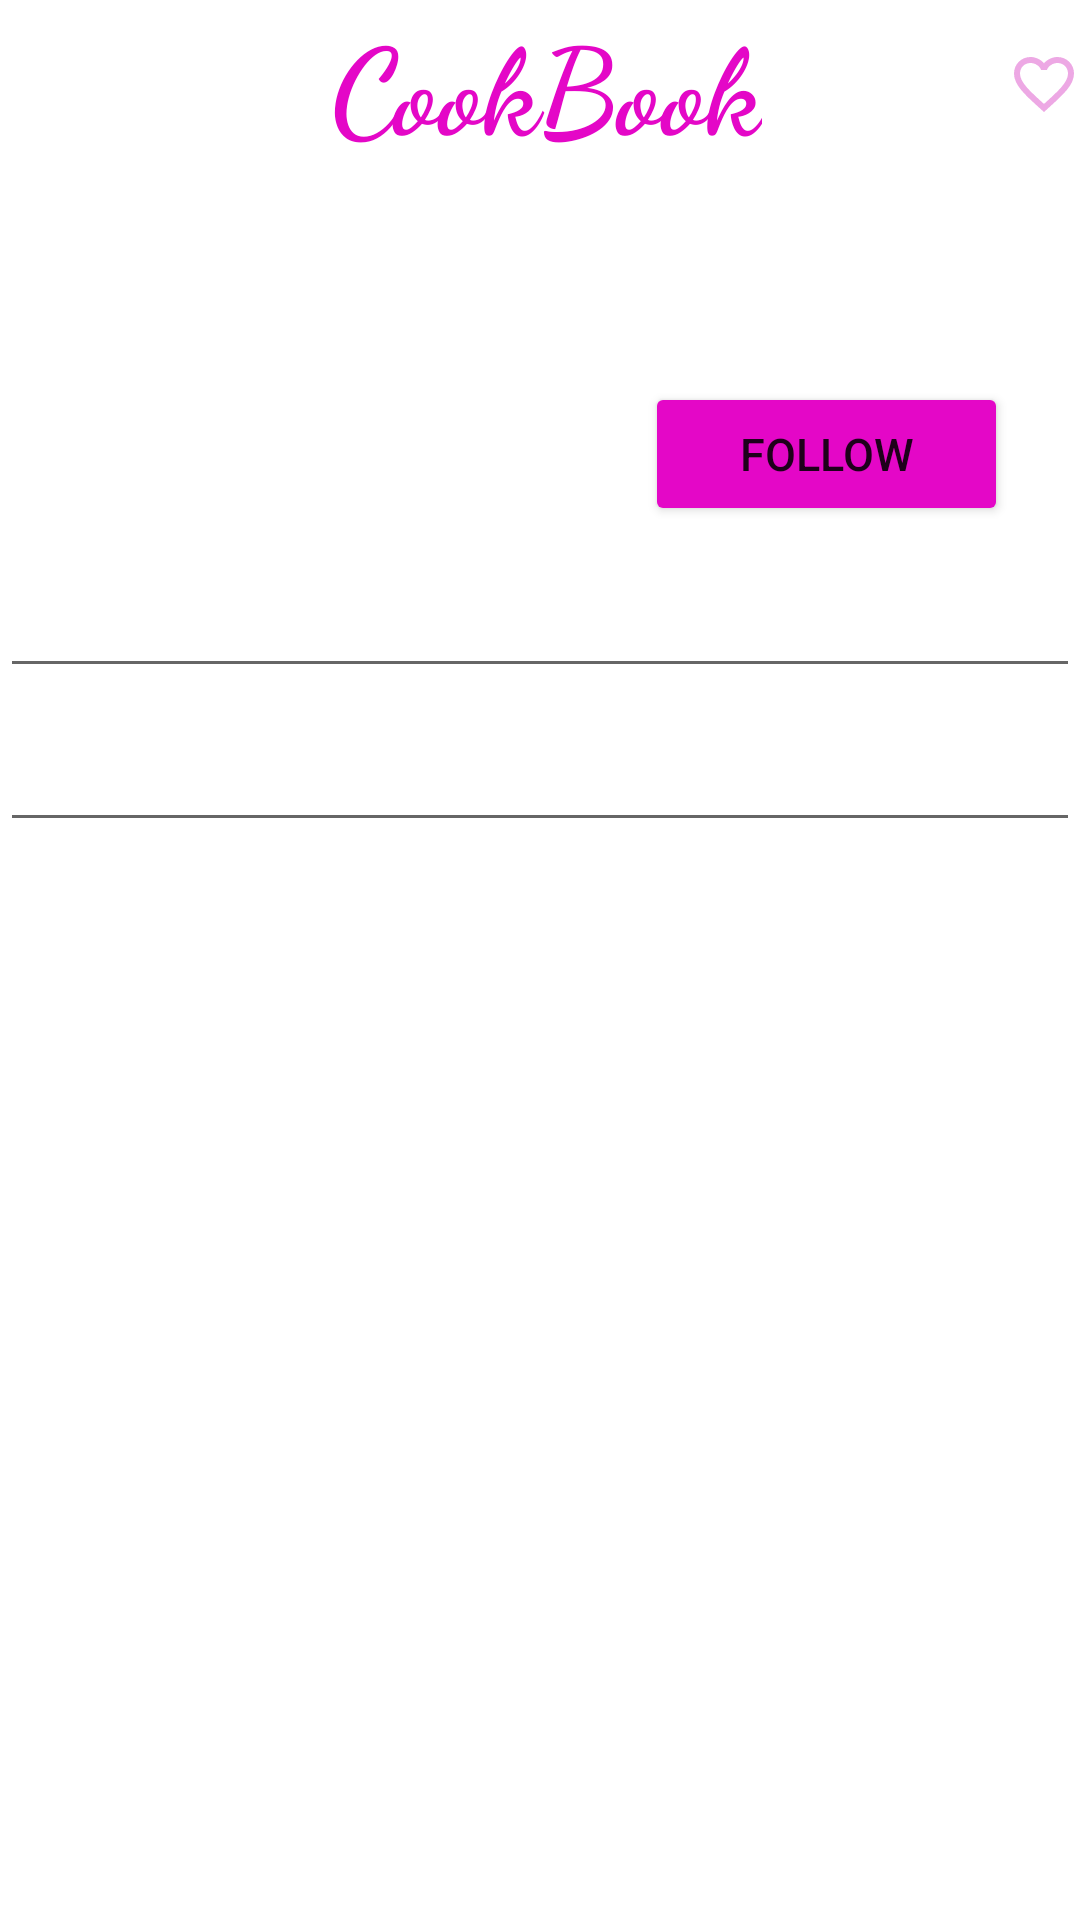

Named icons in this screenshot (1080x1920) and their centers, point (x, y):
like: point (1044, 84)
